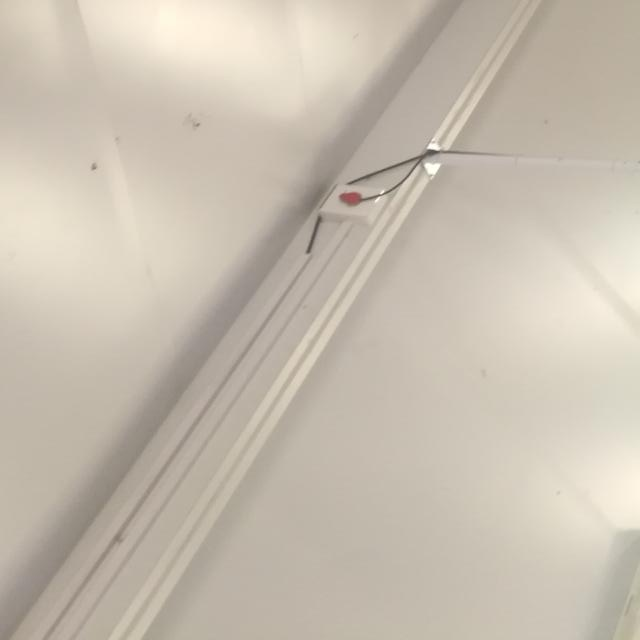fluorescent tube: (0, 0, 371, 203)
